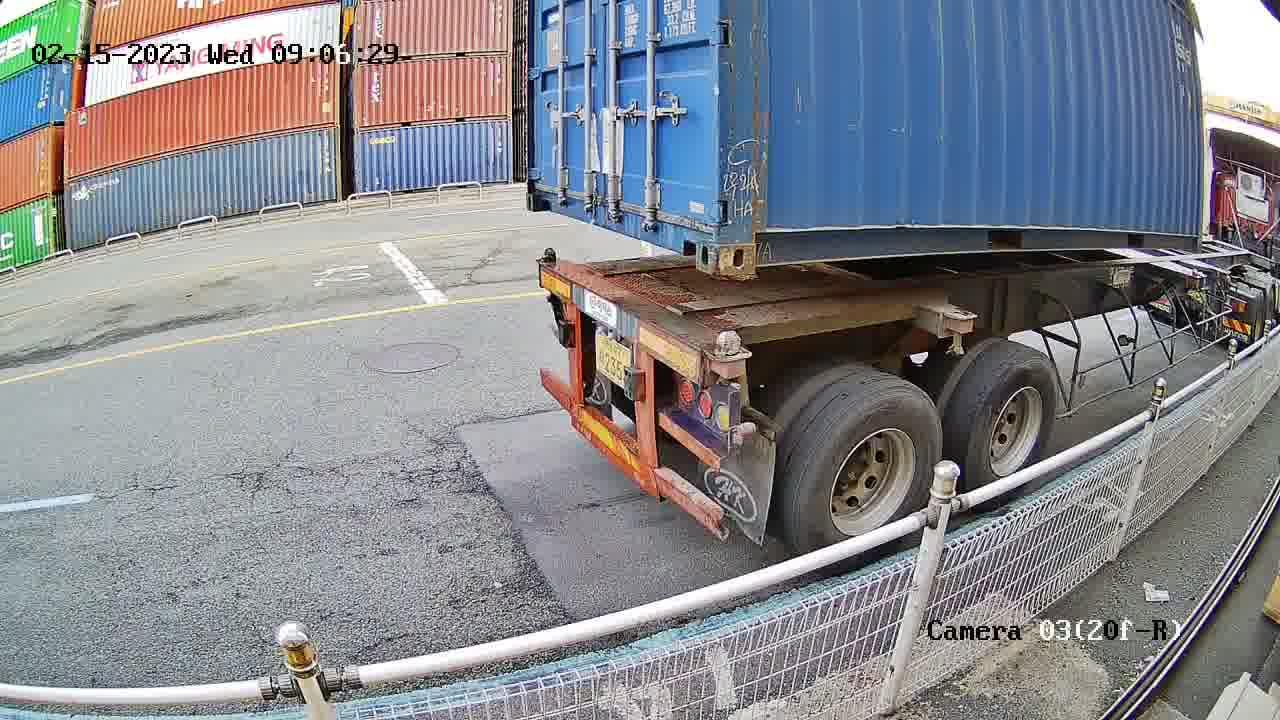Chassis: (540, 264, 711, 380)
Cone: (710, 325, 747, 383), (536, 245, 564, 273)
Hole_L: (714, 183, 802, 273), (524, 159, 563, 215)
Hole_R: (662, 177, 720, 276)
Tire: (795, 388, 944, 548), (966, 353, 1061, 482)
